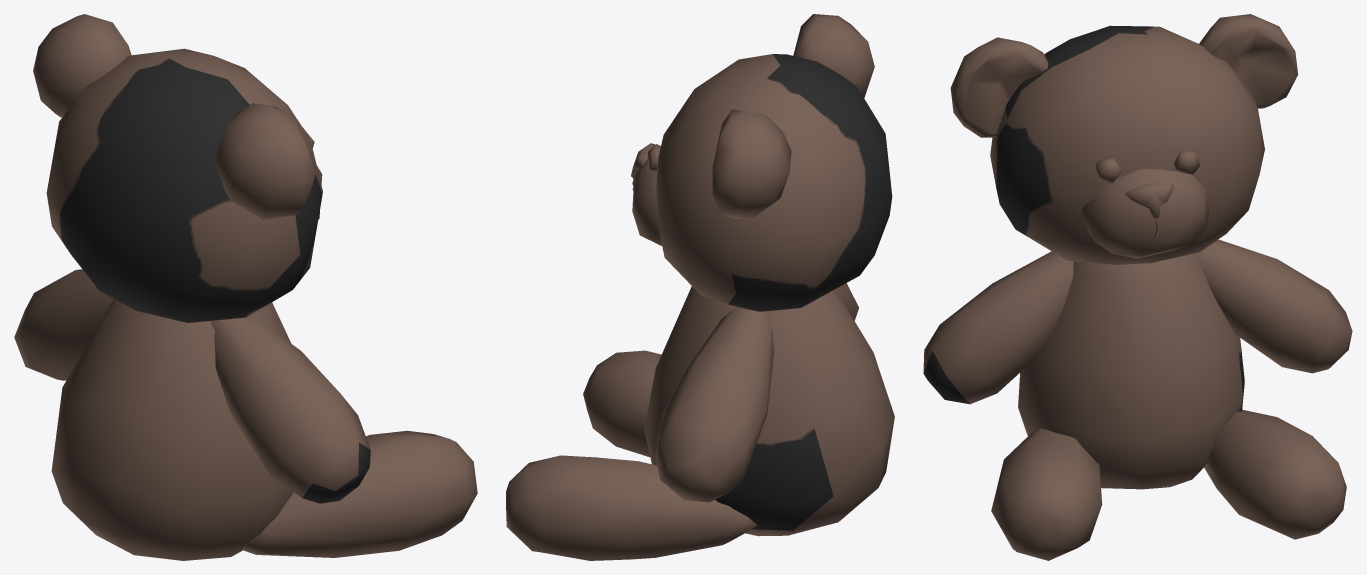
File: bears.fbx
3 renders of one model, left to right at view 1: azimuth 30°, elevation 25°; view 2: azimuth 150°, elevation 25°; view 3: azimuth 270°, elevation 25°, orthographic. The views are drawn at different scales.
Visible parts, largest first — view 1: bears; view 2: bears; view 3: bears.
Part boxes in pixels (x1=…): bears: x1=14, y1=14, x2=477, y2=560; bears: x1=506, y1=14, x2=894, y2=560; bears: x1=923, y1=14, x2=1352, y2=560.
Size of the model in its own units: 57.47 by 76.68 by 66.69.
